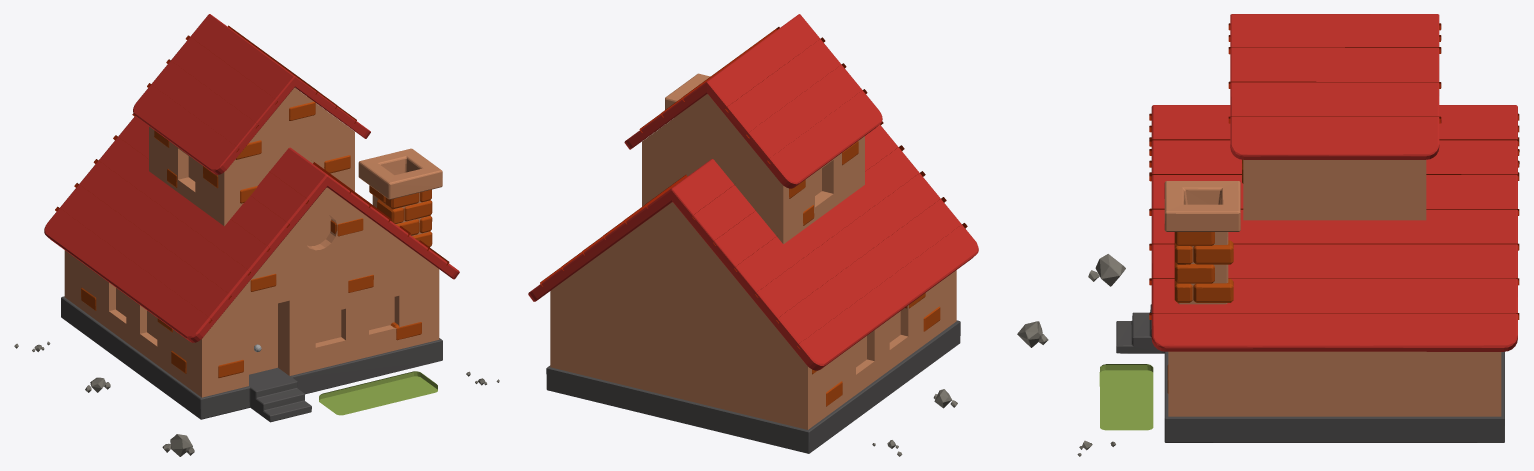
File: casa-roja.glb
3 views of the same model, side by side, from view 1: azimuth 30°, elevation 25°; view 2: azimuth 150°, elevation 25°; view 3: azimuth 270°, elevation 25° (orthographic). The views are drawn at different scales.
Parts seen in each view (by area): view 1: casa-roja; view 2: casa-roja; view 3: casa-roja.
Boxes of the visible parts, x1,y1,x2,y2 form: casa-roja: (14, 14, 499, 456); casa-roja: (528, 14, 1048, 456); casa-roja: (1077, 14, 1519, 456).
Size of the model in its own units: 1 by 0.8813 by 0.9556.
